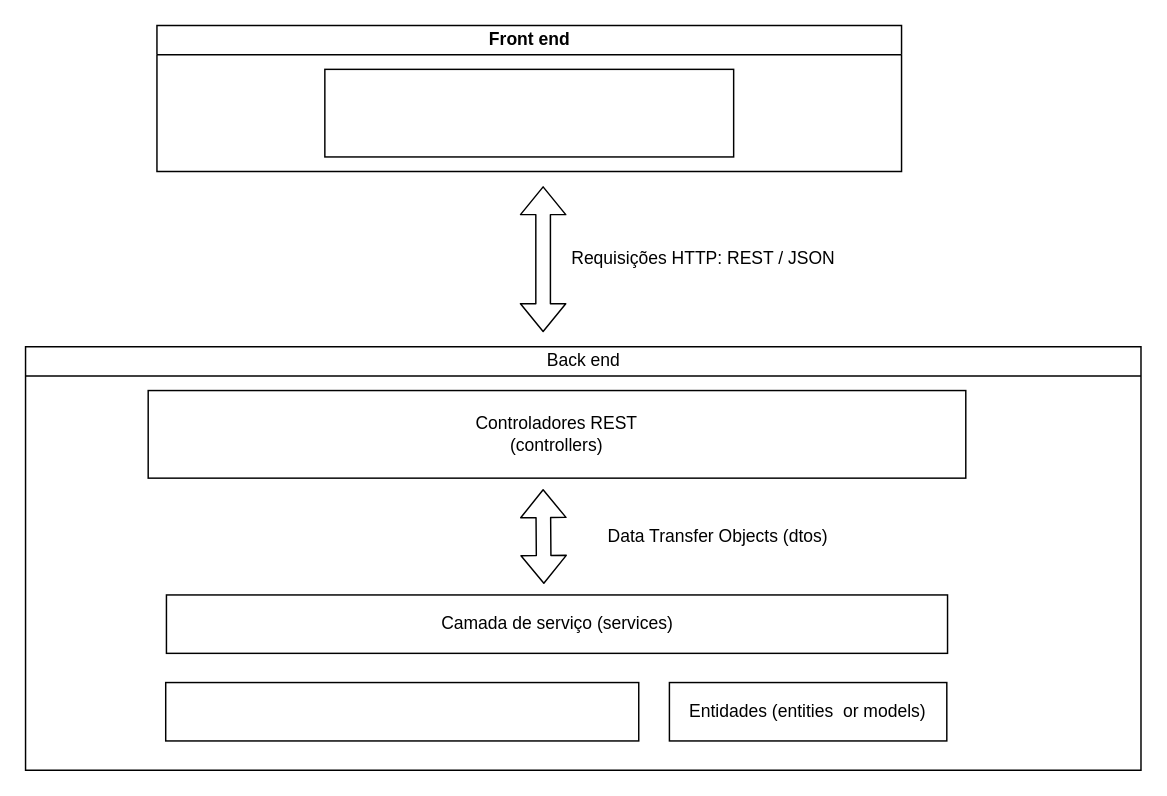
Some shapes in this 1167 by 796 pixel diagram are drawn without their labels. Each missing label, with the centre of its shape:
Aplicação: (x=528, y=112)
Camada de acesso a dados (repositories): (x=401, y=711)
